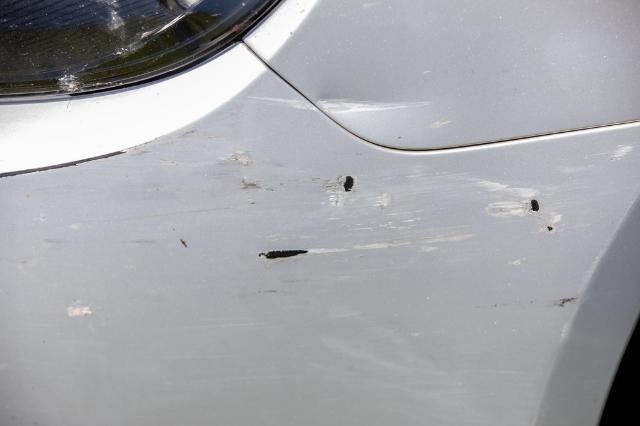dent: (313, 95, 416, 112)
scratch: (23, 95, 640, 386)
